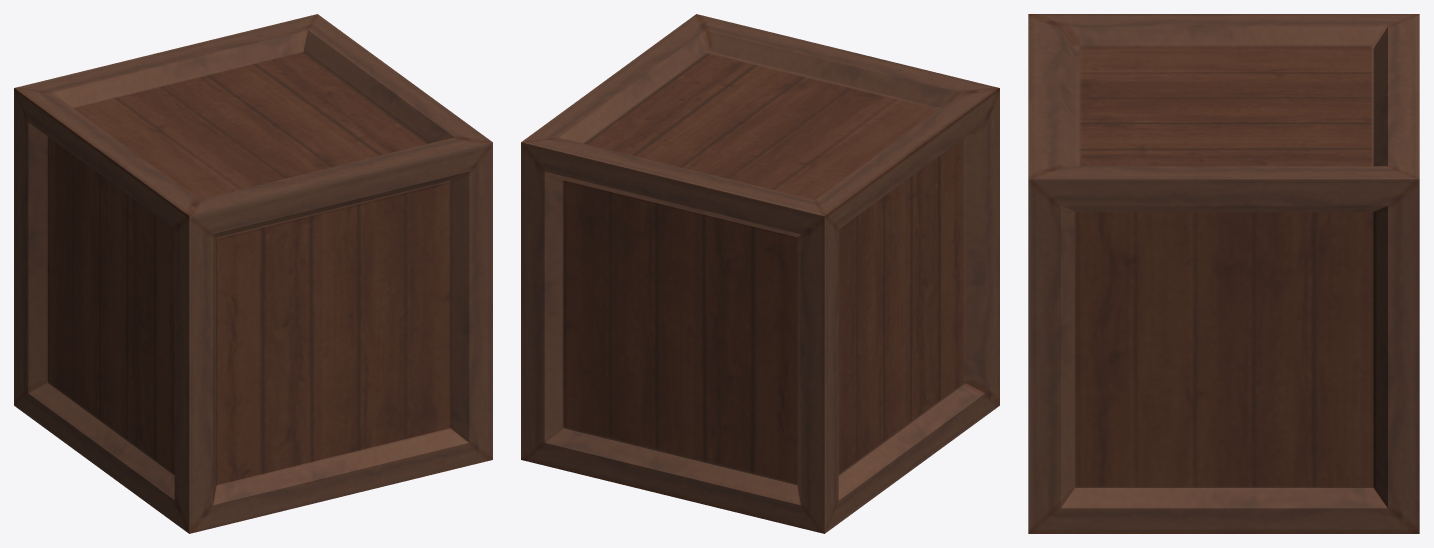
Rendered from crate_asset.fbx.
3 views of the same model, side by side, from view 1: azimuth 30°, elevation 25°; view 2: azimuth 150°, elevation 25°; view 3: azimuth 270°, elevation 25° (orthographic). The views are drawn at different scales.
Visible parts, largest first — view 1: crate; view 2: crate; view 3: crate.
Boxes of the visible parts, x1,y1,x2,y2 form: crate: (14, 14, 492, 533); crate: (521, 14, 999, 533); crate: (1028, 14, 1419, 533).
Size of the model in its own units: 3.99 by 3.99 by 3.99.
